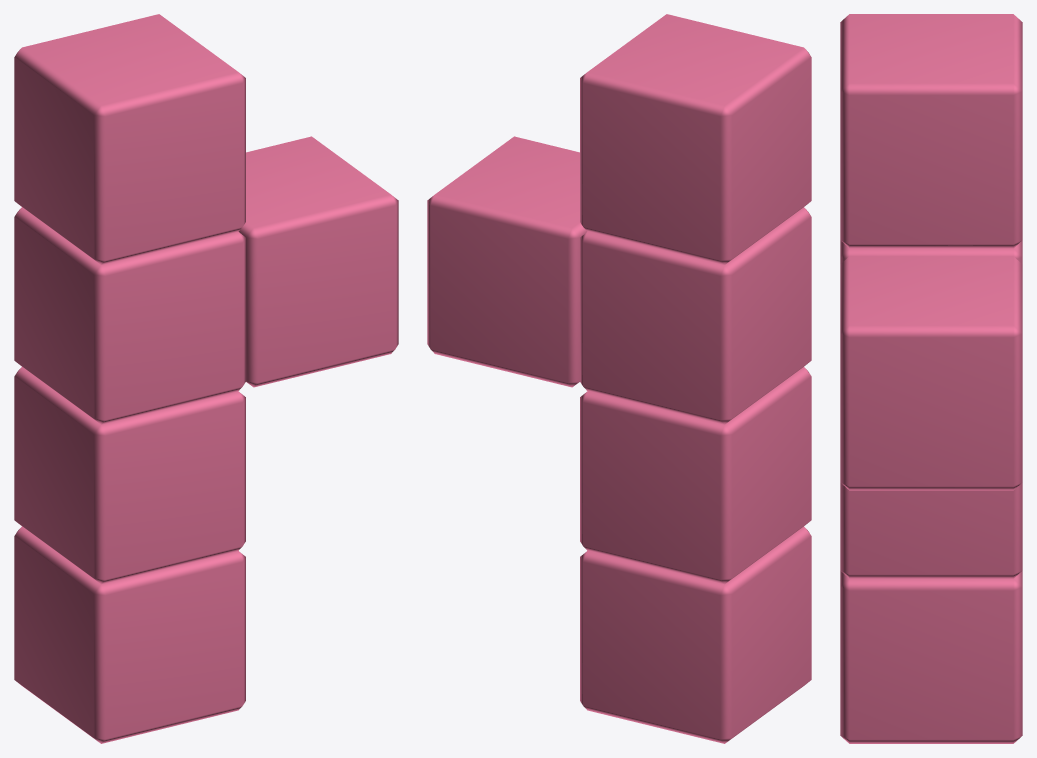
Rendered from FinBarbie5.fbx.
The picture shows the model from 3 angles, left to right: view 1: azimuth 30°, elevation 25°; view 2: azimuth 150°, elevation 25°; view 3: azimuth 270°, elevation 25°; orthographic projection. The views are drawn at different scales.
Parts seen in each view (by area): view 1: geo1; view 2: geo1; view 3: geo1.
Part boxes in pixels (x1=…): geo1: x1=14, y1=14, x2=398, y2=743; geo1: x1=427, y1=14, x2=811, y2=743; geo1: x1=840, y1=14, x2=1022, y2=743.
Size of the model in its own units: 2 by 4 by 1.
